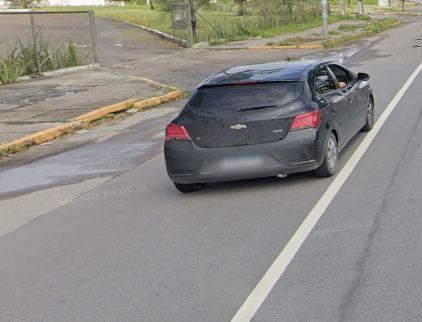car: (160, 44, 377, 197)
